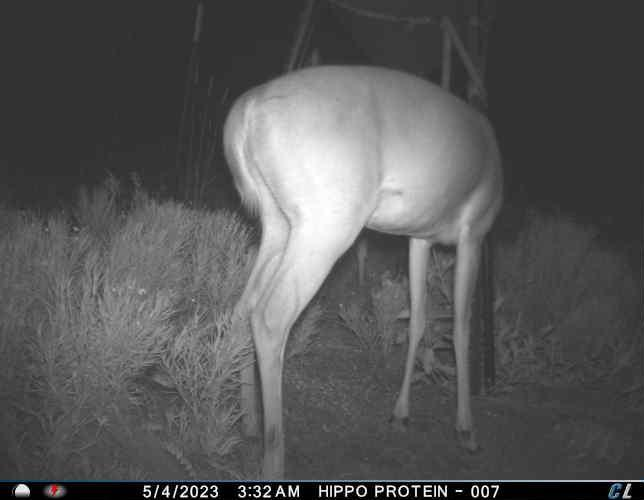Deer: (215, 62, 511, 479)
